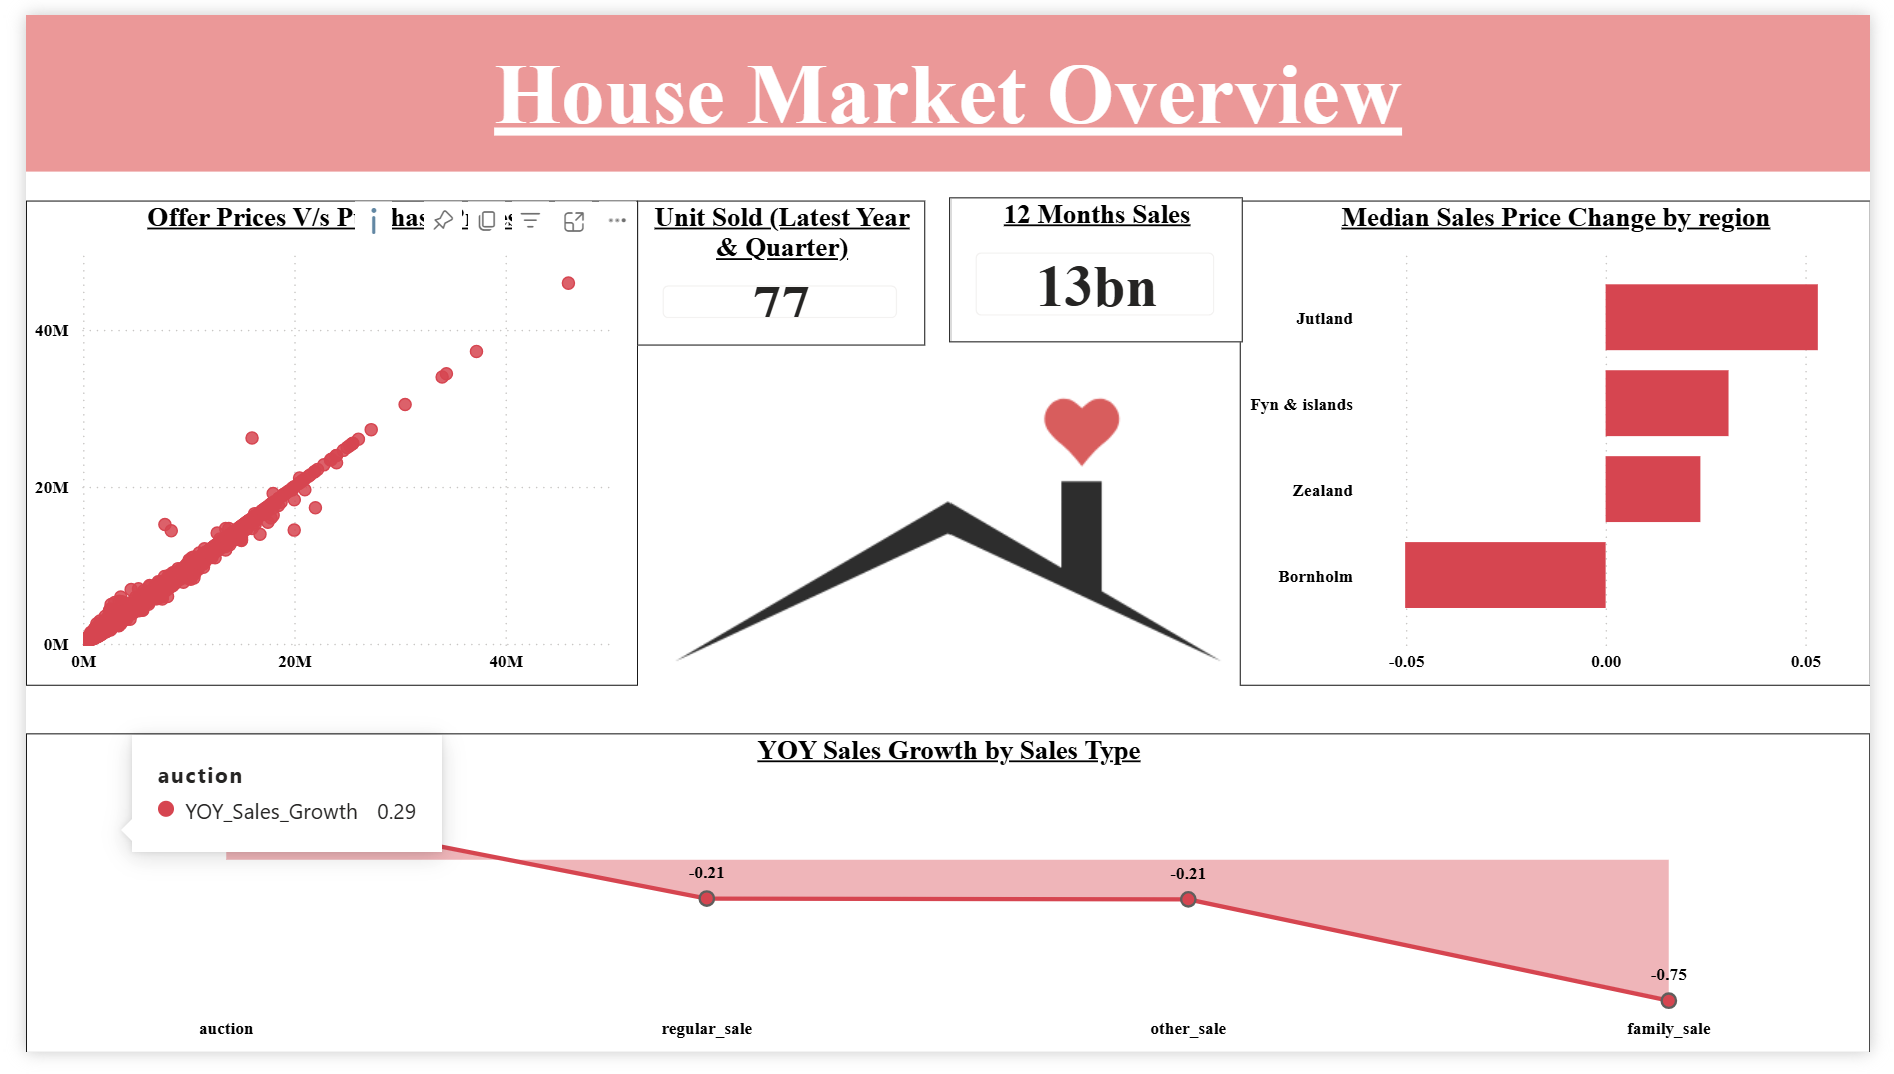

The dashboard page shown, as its layout file describes it:
{"tool":"powerbi","page":{"name":"House Market overview","canvas":[1280,720],"ordinal":0},"visuals":[{"type":"shape","box":[0,0,1280,109],"z":0},{"type":"lineChart","title":"YOY Sales Growth by Sales Type ","fields":{"Y":["Housing.YOY_Sales_Growth"],"Category":["Housing.sales_type"]},"box":[0,499.2,1280,221.8],"z":1000},{"type":"scatterChart","title":"Offer Prices V/s Puschase Prices ","fields":{"X":["Housing.purchase_price"],"Y":["Housing.Offer Price"]},"box":[0,128.4,424.7,337.1],"z":2000},{"type":"barChart","fields":{"Y":["Housing.Median Sales Price Change"],"Category":["Housing.region"]},"box":[842.1,128.4,437.9,337.1],"z":3000},{"type":"cardVisual","title":"Unit Sold (Latest Year & Quarter)","fields":{"Data":["Housing.Unit Sold in Latest Year & Quarter"]},"box":[424.7,128.4,200,100.7],"z":4000},{"type":"cardVisual","title":"12 Months Sales","fields":{"Data":["Housing.Last 12 Months Sales"]},"box":[640.7,127,202.9,100.7],"z":5000}]}

Visuals, with their boxes in screenshot pixels (x1, y1, x2, y2), scaled from the page's 1280x720 canvas onto the 1894x1074 screenshot:
shape: bbox=[0, 0, 1893, 163]
"YOY Sales Growth by Sales Type " lineChart: bbox=[0, 745, 1893, 1073]
"Offer Prices V/s Puschase Prices " scatterChart: bbox=[0, 192, 628, 694]
barChart - Housing.Median Sales Price Change x Housing.region: bbox=[1246, 192, 1893, 694]
"Unit Sold (Latest Year & Quarter)" cardVisual: bbox=[628, 192, 924, 342]
"12 Months Sales" cardVisual: bbox=[948, 189, 1248, 340]
